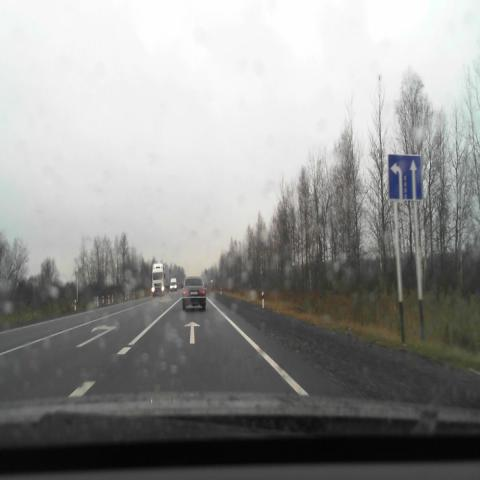5_15_2_2: (388, 153, 422, 200)
